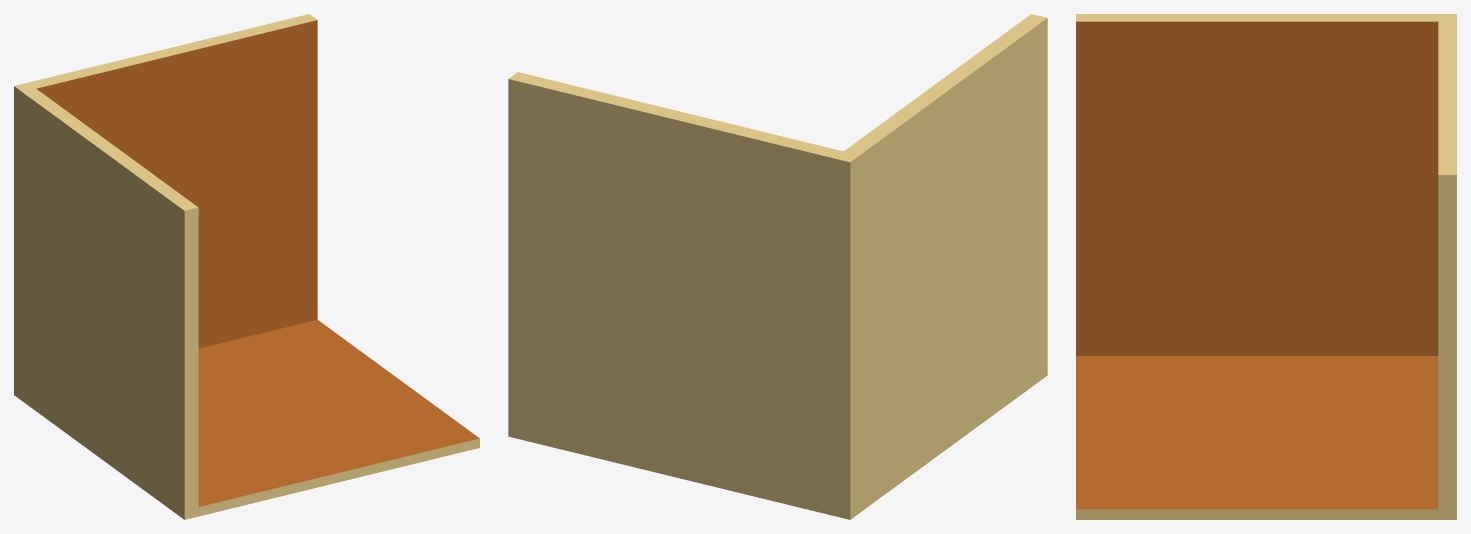
File: Block.fbx
The picture shows the model from 3 angles, left to right: view 1: azimuth 30°, elevation 25°; view 2: azimuth 150°, elevation 25°; view 3: azimuth 270°, elevation 25°; orthographic projection. The views are drawn at different scales.
Parts seen in each view (by area): view 1: Cube.023; view 2: Cube.023; view 3: Cube.023.
Part boxes in pixels (x1,y1,x2,y2): Cube.023: (14, 14, 479, 519); Cube.023: (508, 14, 1047, 519); Cube.023: (1076, 14, 1456, 519).
Size of the model in its own units: 418 by 418 by 418.
